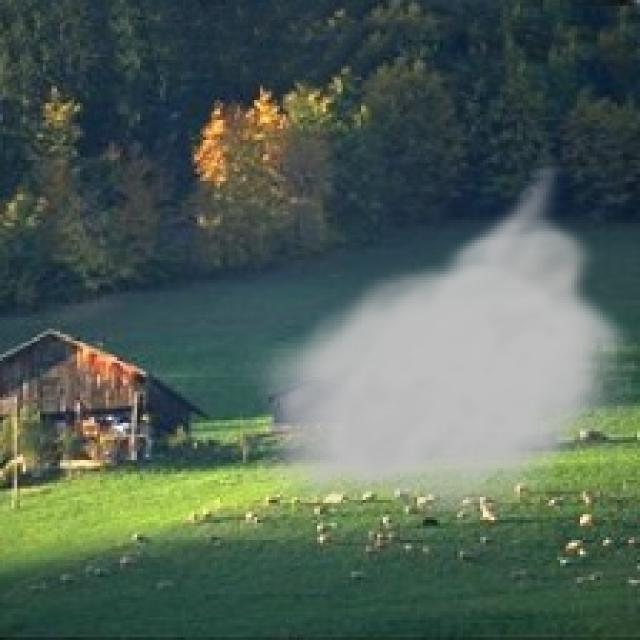Smoke: (237, 151, 637, 526)
